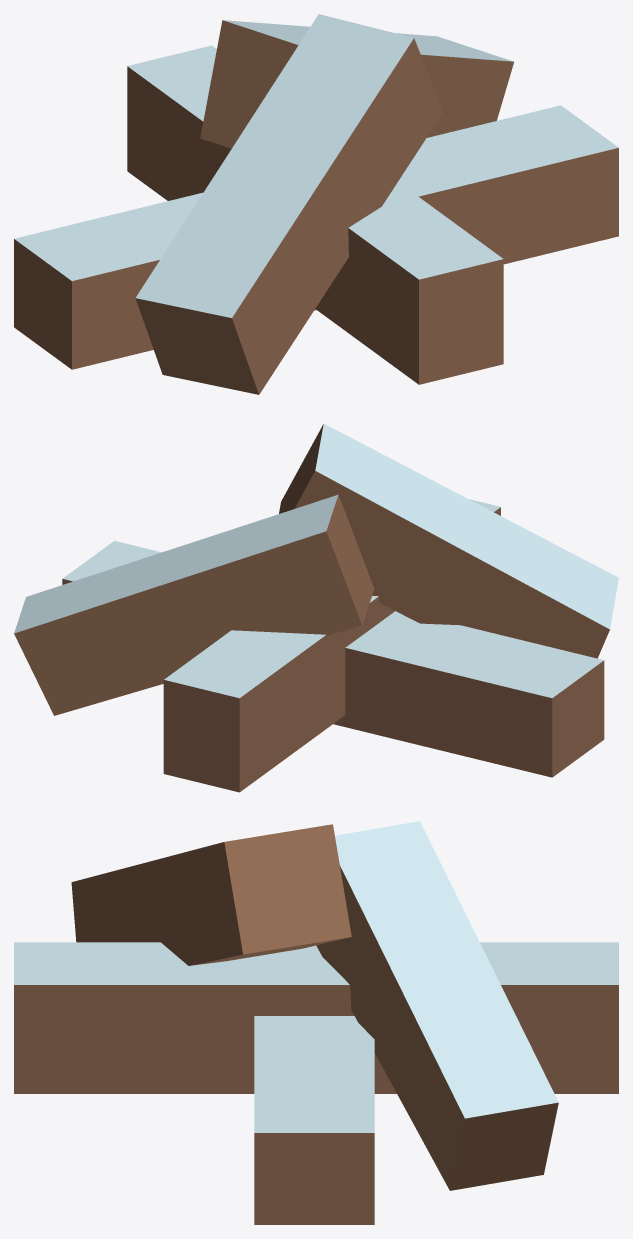
File: SM_Prop_Generic_CampFire_01_Snow.fbx
3 renders of one model, top to bottom at view 1: azimuth 30°, elevation 25°; view 2: azimuth 150°, elevation 25°; view 3: azimuth 270°, elevation 25°, orthographic. The views are drawn at different scales.
Visible parts, largest first — view 1: SM_Prop_Generic_CampFire_01_Snow; view 2: SM_Prop_Generic_CampFire_01_Snow; view 3: SM_Prop_Generic_CampFire_01_Snow.
Part boxes in pixels (x1=…): SM_Prop_Generic_CampFire_01_Snow: x1=14, y1=14, x2=618, y2=394; SM_Prop_Generic_CampFire_01_Snow: x1=14, y1=424, x2=618, y2=792; SM_Prop_Generic_CampFire_01_Snow: x1=14, y1=821, x2=618, y2=1224.
Size of the model in its own units: 35.14 by 16.12 by 32.48.
Materials: 1 (1 with a texture image).
